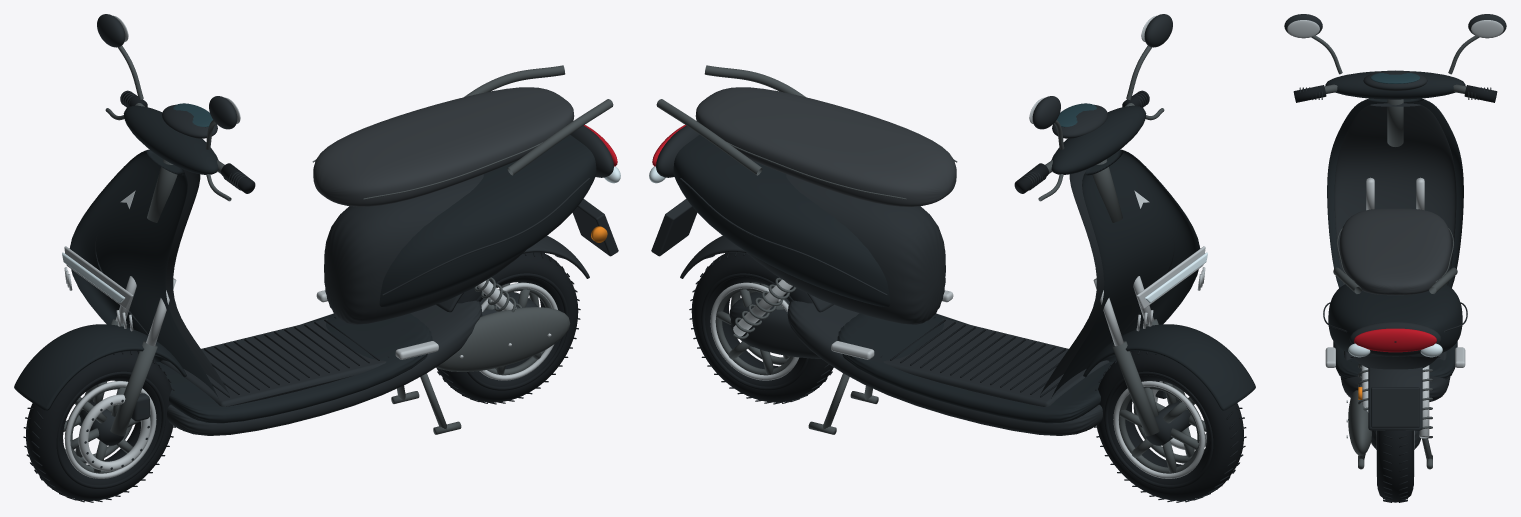
File: nova.glb
3 renders of one model, left to right at view 1: azimuth 30°, elevation 25°; view 2: azimuth 150°, elevation 25°; view 3: azimuth 270°, elevation 25°, orthographic. The views are drawn at different scales.
Parts seen in each view (by area): view 1: Painted floor edge.001, Front hub.001, Saddle.001, Front tyre.001, Front alloy rim.002, Front machined rim.002, Rear turn signal.002; view 2: Painted floor edge.001, Front hub.001, Front tyre.001, Saddle.001, Front alloy rim.002, Front machined rim.002, Rear turn signal.002; view 3: Front hub.001, Painted floor edge.001, Saddle.001, Front alloy rim.002, Front tyre.001, Front machined rim.002, Tail lamp lens.001, Instrument screen.001, Rear turn signal.002.
Boxes of the visible parts, bbox=[...] form: Painted floor edge.001: bbox=[14, 105, 596, 423]; Front hub.001: bbox=[79, 14, 618, 469]; Saddle.001: bbox=[313, 87, 574, 206]; Front tyre.001: bbox=[23, 90, 580, 502]; Front alloy rim.002: bbox=[63, 45, 613, 473]; Front machined rim.002: bbox=[64, 15, 557, 478]; Rear turn signal.002: bbox=[62, 166, 620, 302]; Painted floor edge.001: bbox=[673, 105, 1255, 423]; Front hub.001: bbox=[651, 14, 1190, 445]; Front tyre.001: bbox=[689, 90, 1246, 502]; Saddle.001: bbox=[695, 87, 956, 206]; Front alloy rim.002: bbox=[656, 45, 1206, 473]; Front machined rim.002: bbox=[710, 15, 1206, 478]; Rear turn signal.002: bbox=[649, 166, 1207, 302]; Front hub.001: bbox=[1284, 14, 1506, 449]; Painted floor edge.001: bbox=[1325, 71, 1465, 379]; Saddle.001: bbox=[1339, 208, 1451, 295]; Front alloy rim.002: bbox=[1311, 35, 1479, 469]; Front tyre.001: bbox=[1293, 85, 1497, 502]; Front machined rim.002: bbox=[1287, 20, 1503, 476]; Tail lamp lens.001: bbox=[1354, 328, 1436, 352]; Instrument screen.001: bbox=[1370, 73, 1420, 83]; Rear turn signal.002: bbox=[1348, 343, 1442, 357].
Bounding box in the file's own units: 1.91 × 1.34 × 0.774.
